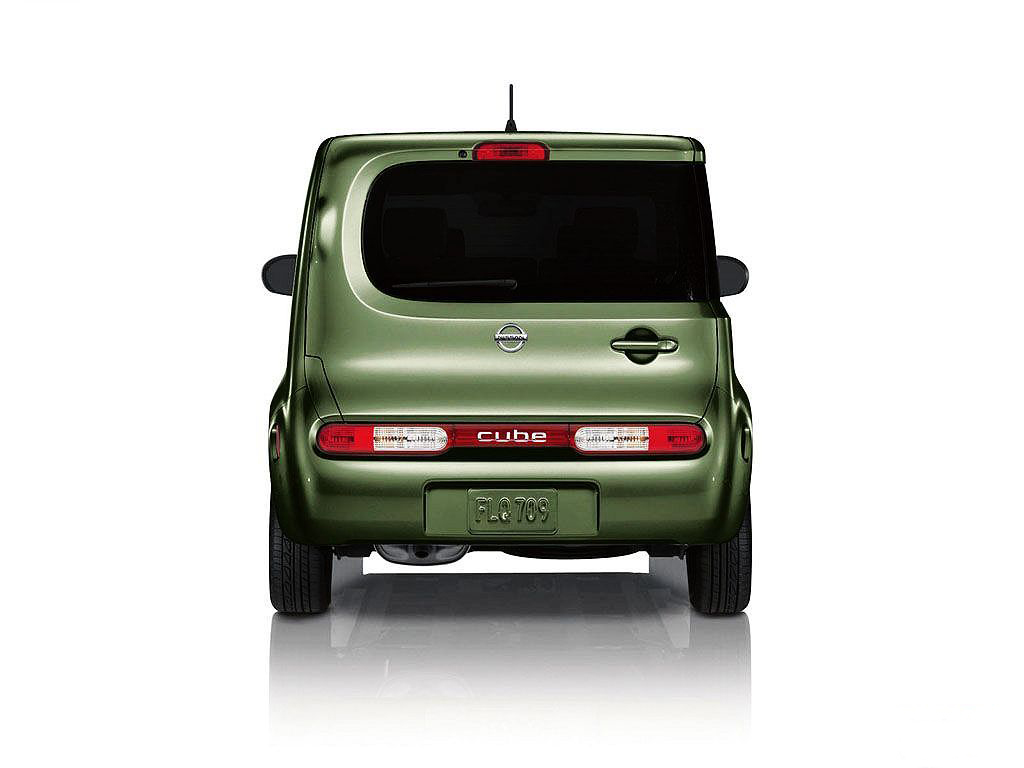back_view: (6, 86, 355, 299)
backlight: (230, 119, 353, 182)
side_glass: (429, 14, 632, 114)
